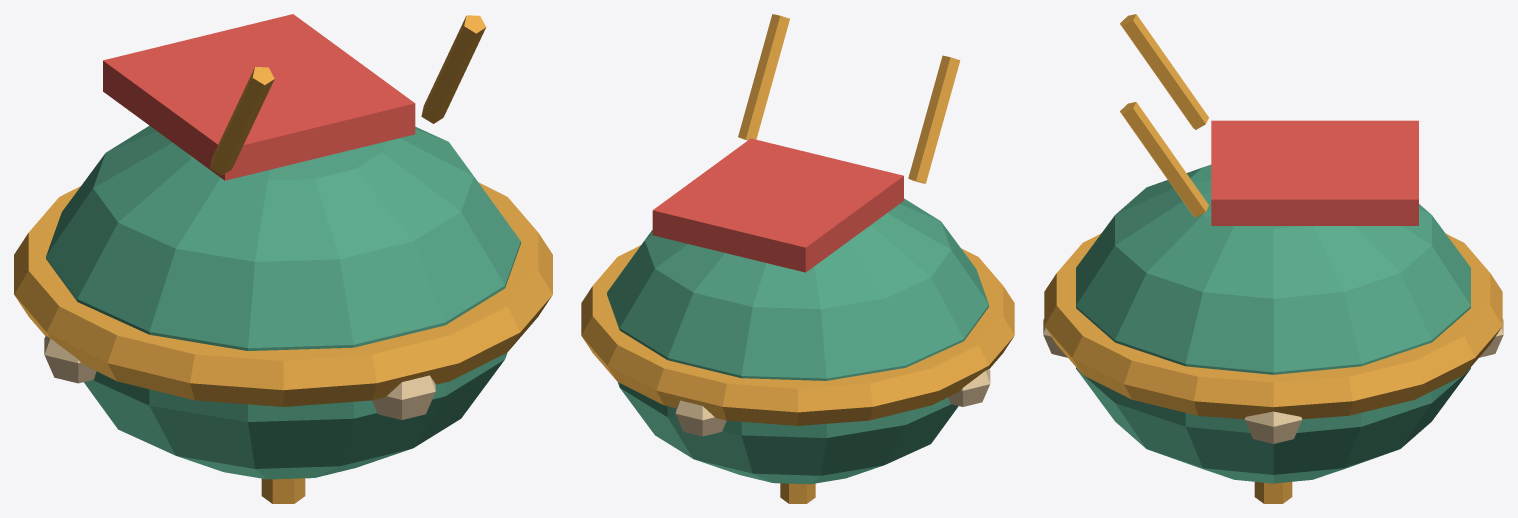
Rendered from ParkParkSpacePod.obj.
The picture shows the model from 3 angles, left to right: view 1: azimuth 30°, elevation 25°; view 2: azimuth 150°, elevation 25°; view 3: azimuth 270°, elevation 25°; orthographic projection. The views are drawn at different scales.
Parts seen in each view (by area): view 1: ParkParkSpacePod; view 2: ParkParkSpacePod; view 3: ParkParkSpacePod.
Part boxes in pixels (bbox=[...]): ParkParkSpacePod: bbox=[14, 14, 552, 503]; ParkParkSpacePod: bbox=[581, 14, 1014, 503]; ParkParkSpacePod: bbox=[1043, 14, 1503, 503].
Bounding box in the file's own units: 2.26 × 2.33 × 2.22.
